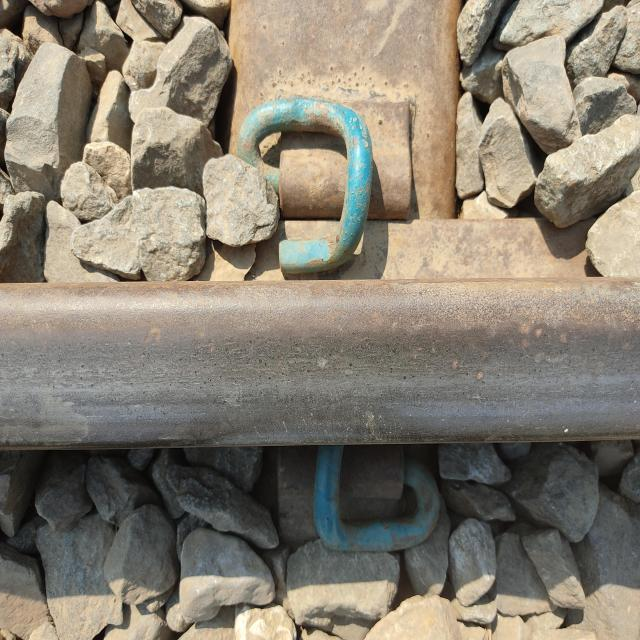broken_rail_medium: (519, 320, 543, 349), (142, 324, 165, 344), (559, 332, 569, 346), (208, 341, 217, 355), (318, 355, 328, 367), (476, 371, 486, 383), (451, 357, 459, 370)
